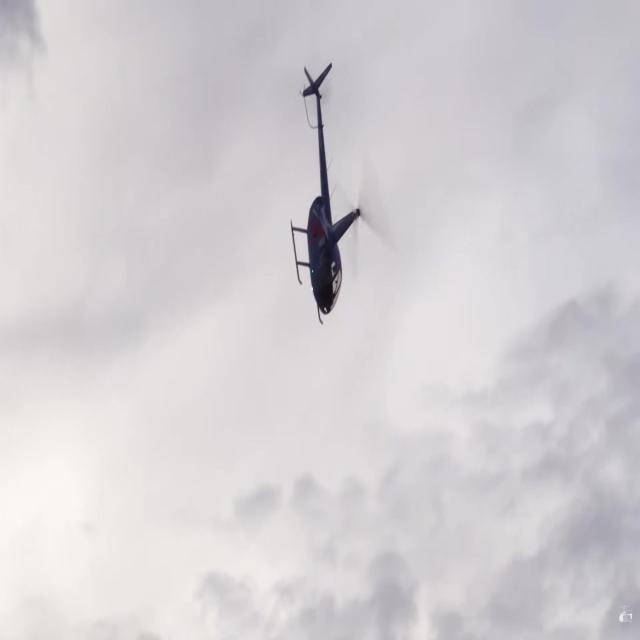CIV_HELO: (291, 63, 361, 323)
